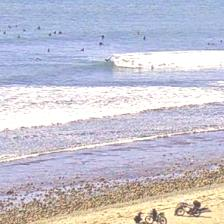surfer: (104, 56, 112, 62), (35, 57, 42, 61), (150, 63, 154, 70), (208, 42, 214, 46), (77, 48, 84, 51), (98, 42, 104, 45), (22, 28, 26, 32), (48, 33, 52, 37), (101, 35, 105, 39), (0, 29, 3, 34), (8, 25, 12, 28), (37, 26, 41, 29), (58, 31, 62, 34), (143, 36, 146, 40), (220, 40, 223, 43), (48, 48, 50, 52), (137, 30, 139, 34), (4, 31, 6, 34), (15, 25, 18, 27), (18, 35, 20, 38), (54, 31, 56, 34)
